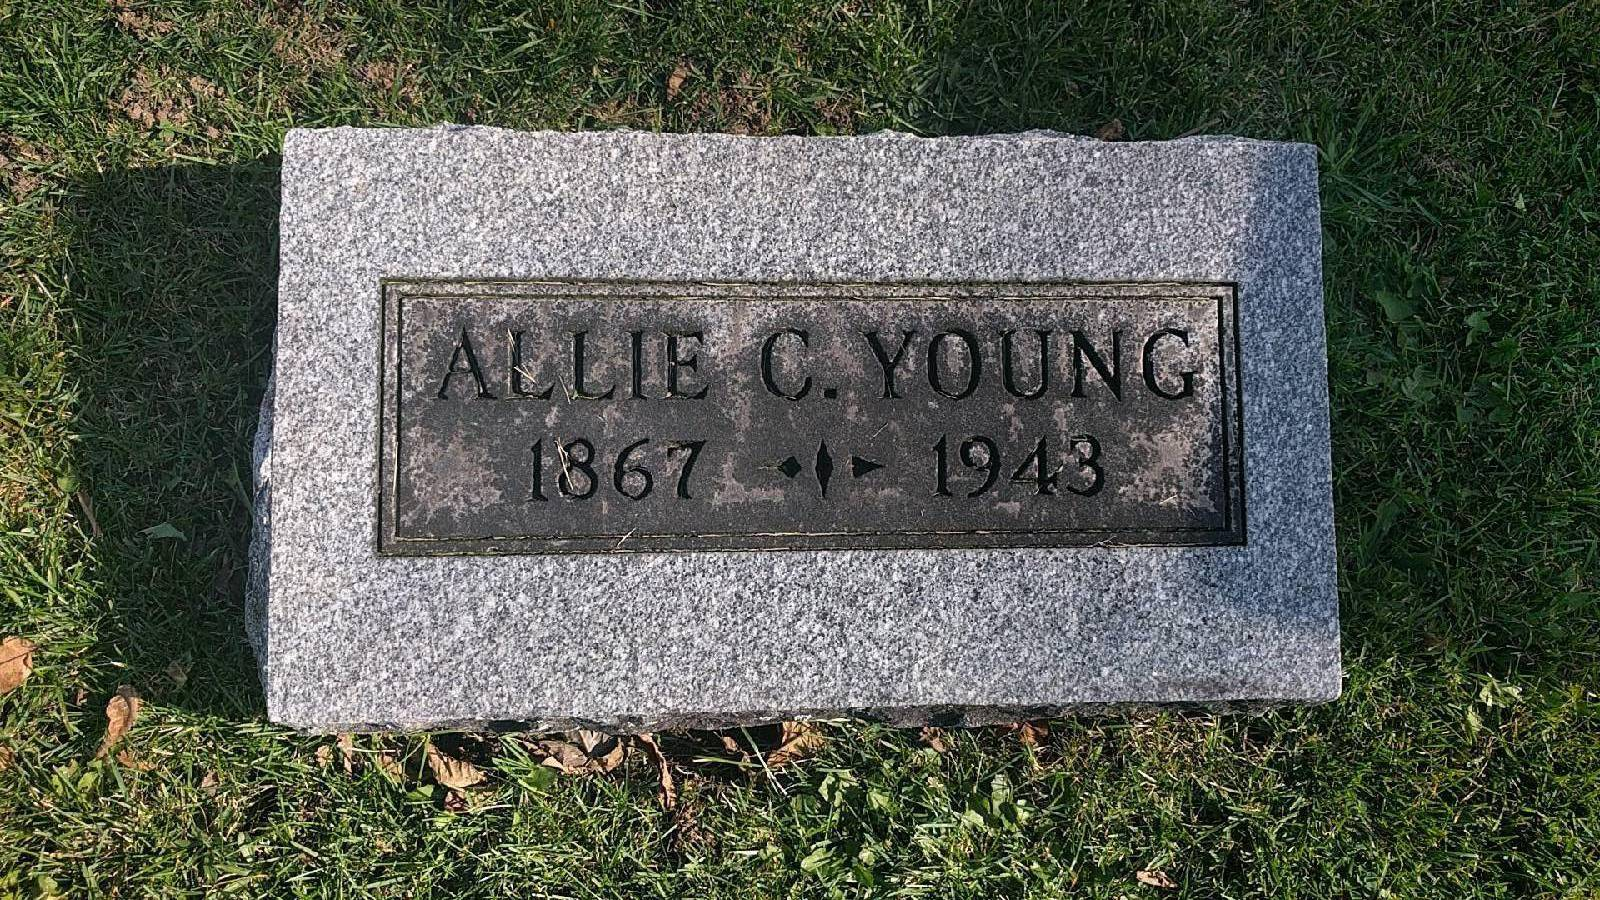flat: (253, 122, 1344, 722)
